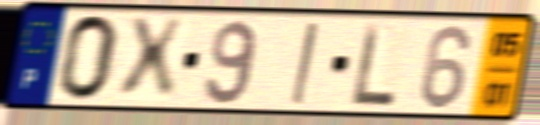0: (53, 13, 127, 103)
6: (417, 21, 473, 112)
9: (201, 17, 260, 106)
I: (288, 19, 321, 108)
L: (350, 21, 399, 109)
X: (116, 16, 187, 104)
